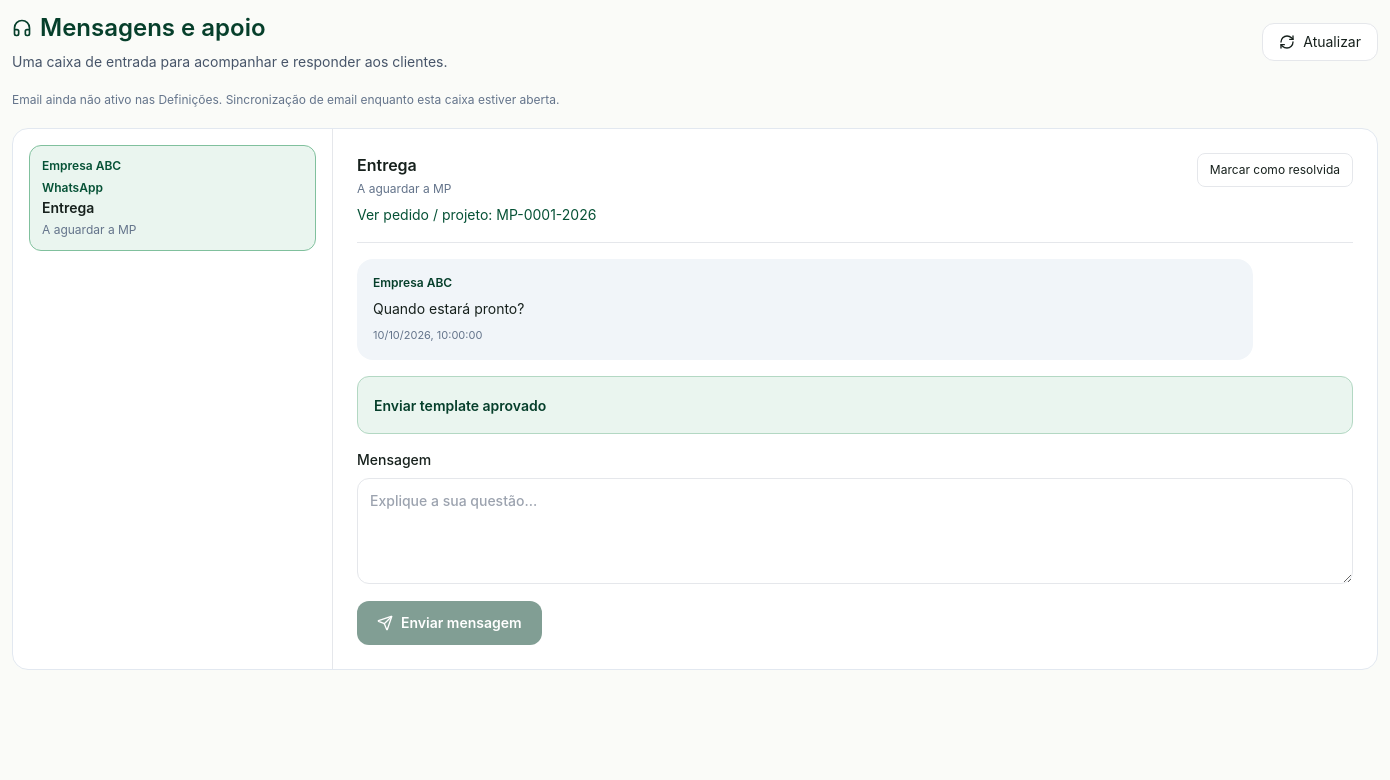
Test: SupportDesk › shows an uncertain WhatsApp send without losing the draft or automatically retrying
This screenshot has width=1390, height=780.
expect the text "Quando estará pronto?" is shown: met, box [373, 300, 524, 317]
Type "Vamos responder" into the text box labelled "Mensagem" at (855, 530), box [357, 478, 1353, 584]
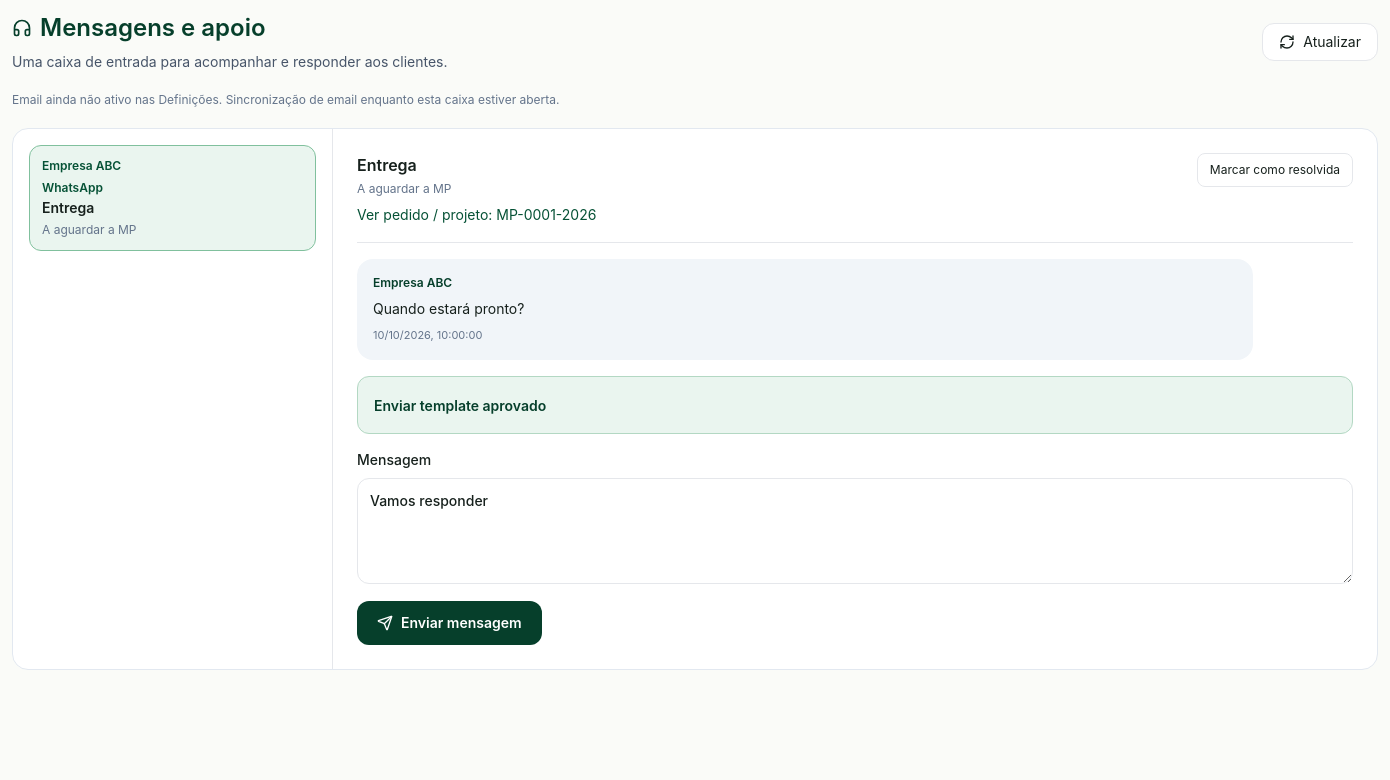
Click the button "Enviar mensagem" at (449, 622), box [357, 600, 542, 644]
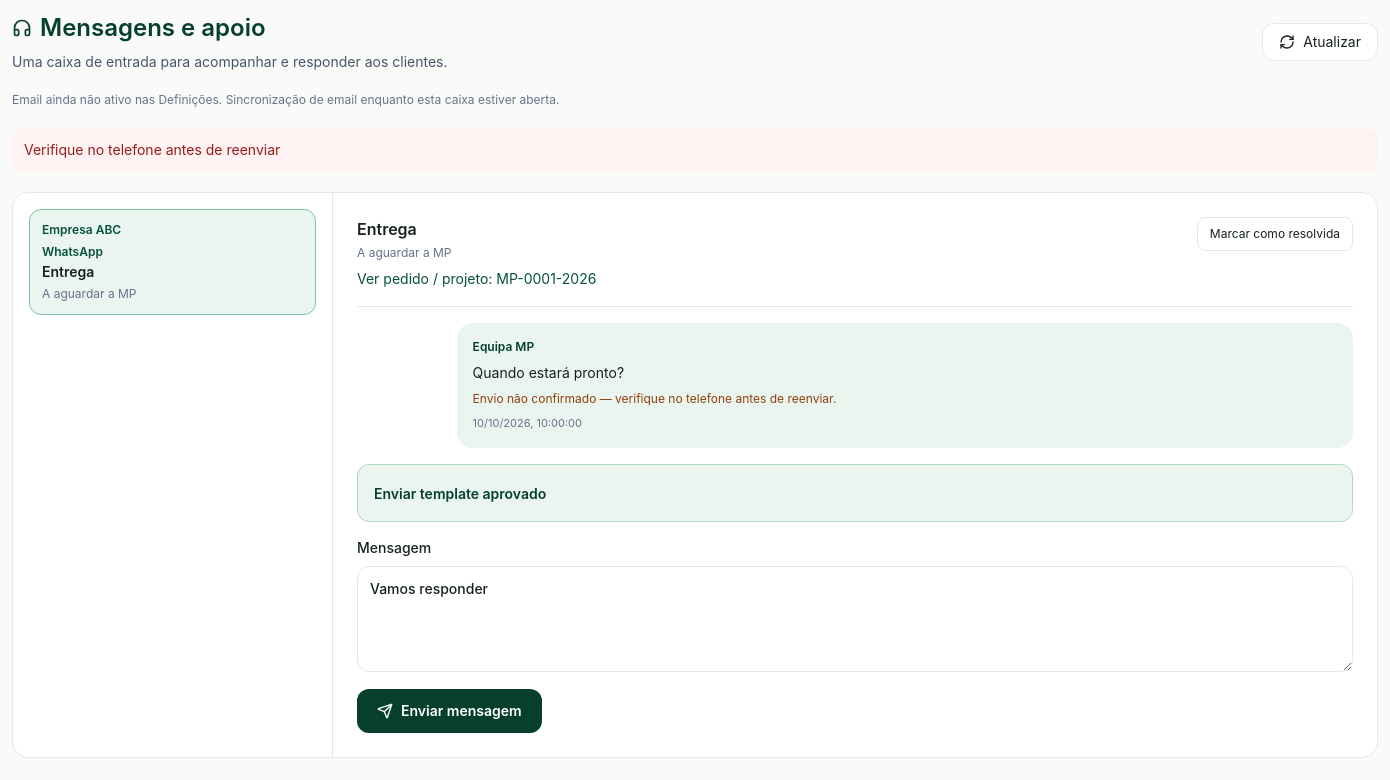
expect the message "Verifique no telefone antes de reenviar" is shown: met, box [12, 128, 1378, 172]
expect the text "Envio não confirmado" is shown: met, box [473, 391, 836, 406]
